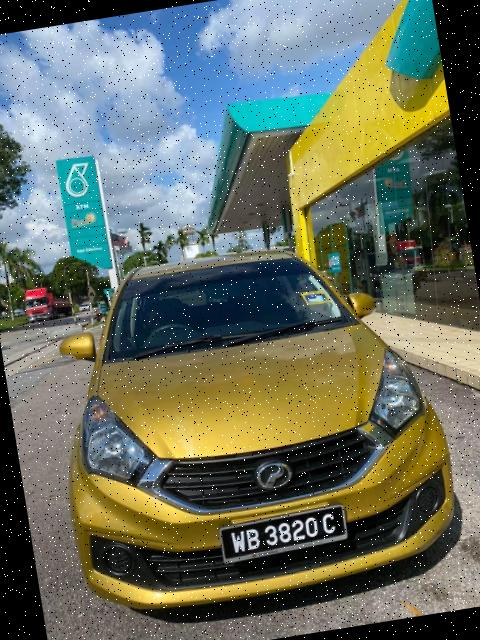License_Plate: (215, 506, 349, 566)
car: (39, 224, 469, 631)
